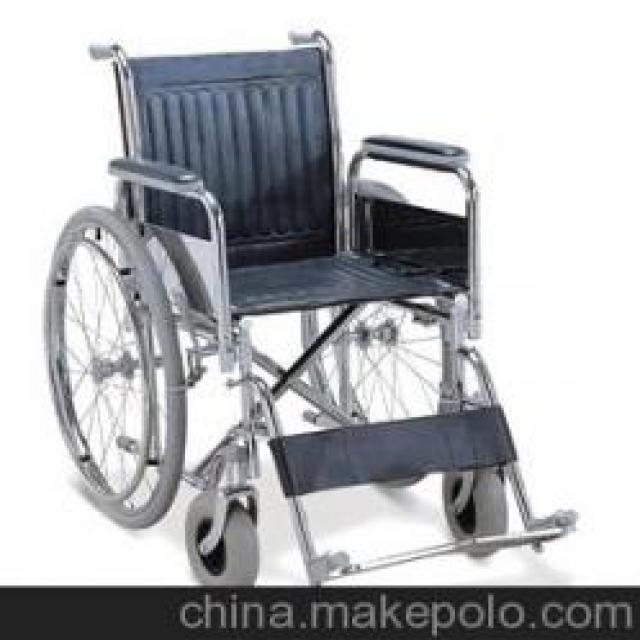wheelchair: (36, 9, 594, 584)
